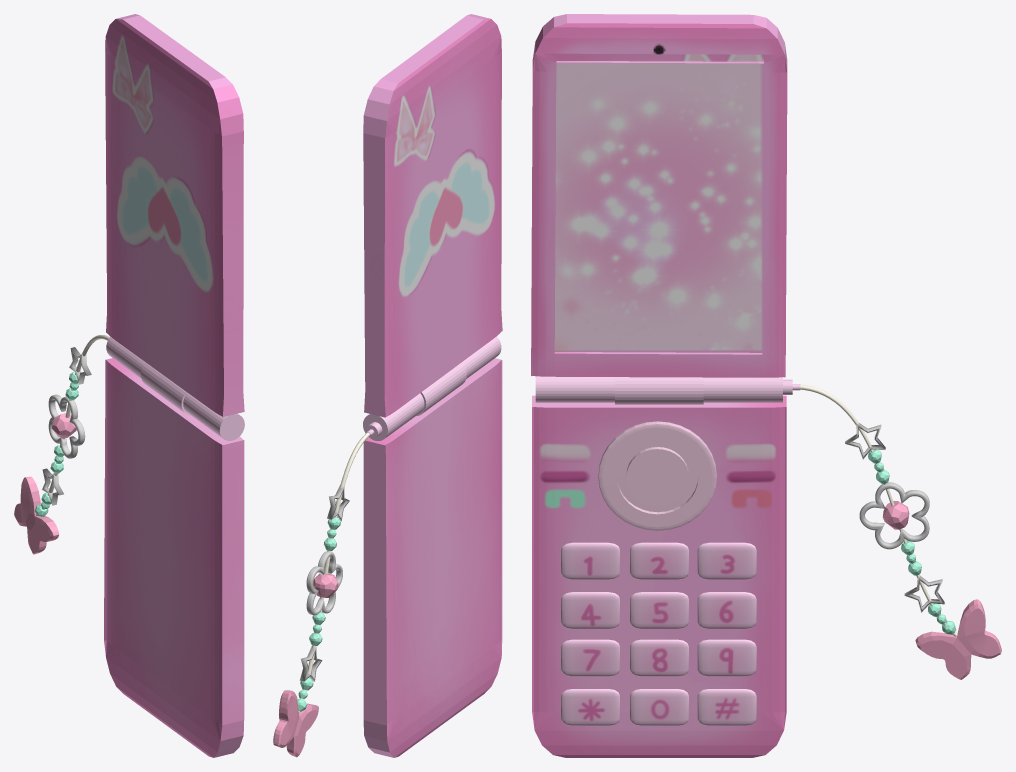
The model's file is phone fbx.fbx.
3 renders of one model, left to right at view 1: azimuth 30°, elevation 25°; view 2: azimuth 150°, elevation 25°; view 3: azimuth 270°, elevation 25°, orthographic. The views are drawn at different scales.
Visible parts, largest first — view 1: Flip phone-Preet_obj; view 2: Flip phone-Preet_obj; view 3: Flip phone-Preet_obj.
Part boxes in pixels (bbox=[...]): Flip phone-Preet_obj: bbox=[14, 14, 244, 757]; Flip phone-Preet_obj: bbox=[273, 14, 502, 757]; Flip phone-Preet_obj: bbox=[531, 14, 1001, 757].
Size of the model in its own units: 228 by 4943 by 2871.
1 material, 1 textured.
